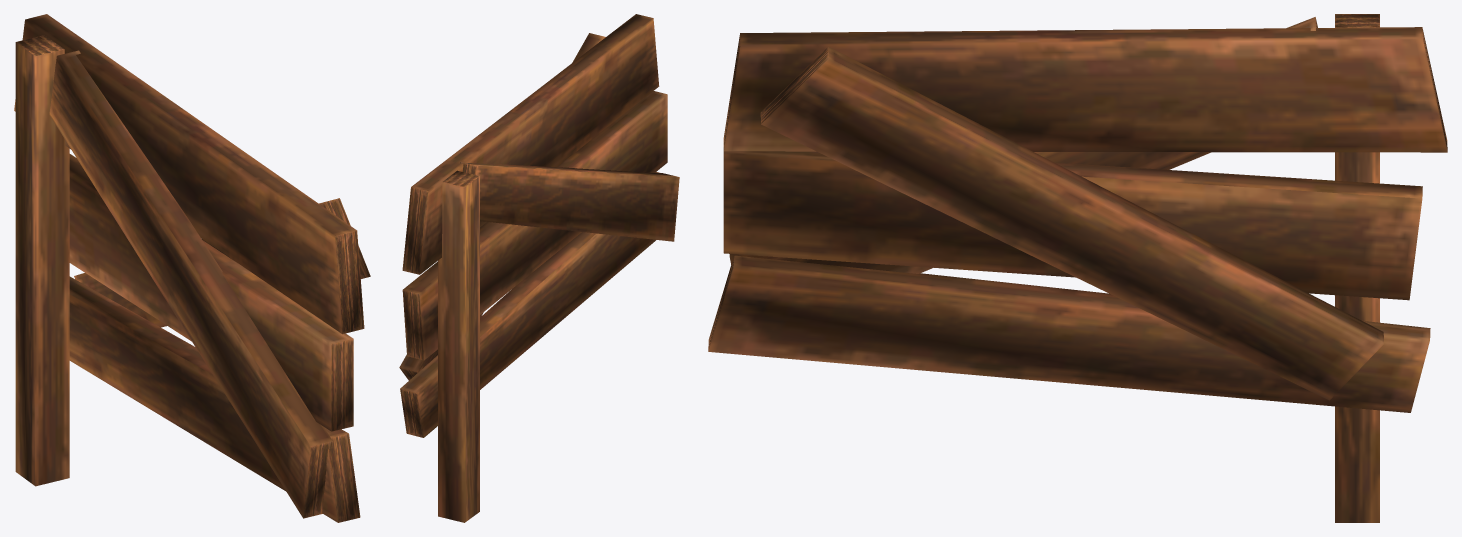
The model's file is TRACKGATECLOCKWISE.obj.
3 renders of one model, left to right at view 1: azimuth 30°, elevation 25°; view 2: azimuth 150°, elevation 25°; view 3: azimuth 270°, elevation 25°, orthographic. The views are drawn at different scales.
Visible parts, largest first — view 1: TrackGate; view 2: TrackGate; view 3: TrackGate.
Part boxes in pixels (box(x1,y1,x2,y2)): TrackGate: box(14, 14, 370, 522); TrackGate: box(399, 14, 679, 522); TrackGate: box(708, 14, 1447, 522).
Size of the model in its own units: 30.04 by 149 by 202.
